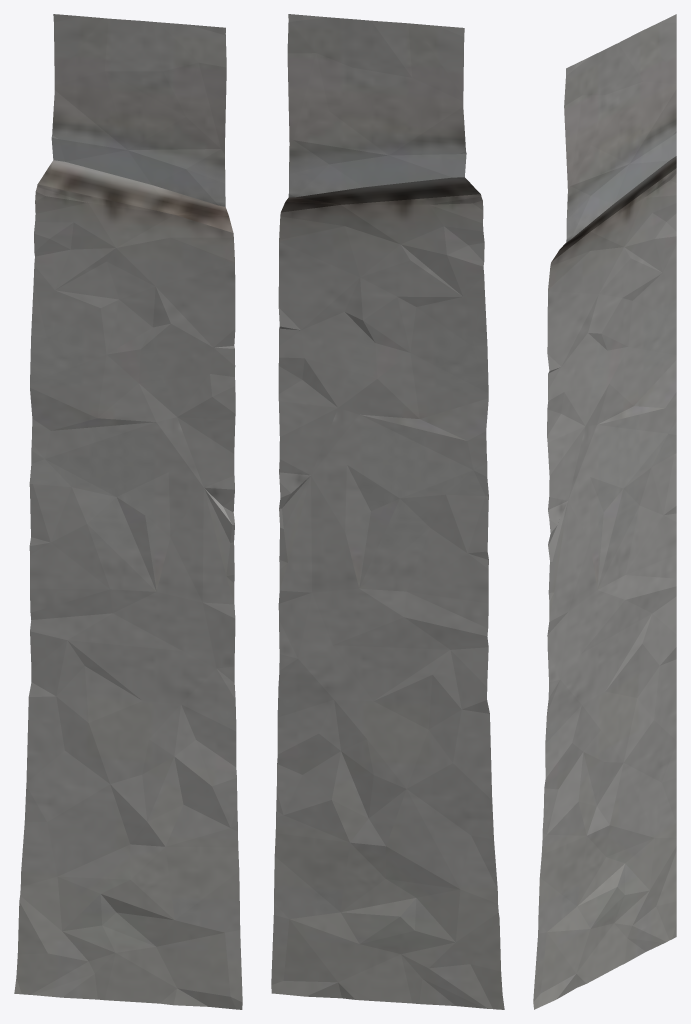
3 renders of one model, left to right at view 1: azimuth 30°, elevation 25°; view 2: azimuth 210°, elevation 25°; view 3: azimuth 270°, elevation 25°, orthographic. The views are drawn at different scales.
Bounding box in the file's own units: 0.1395 × 0.8374 × 0.1157.
1 material, 1 textured.
